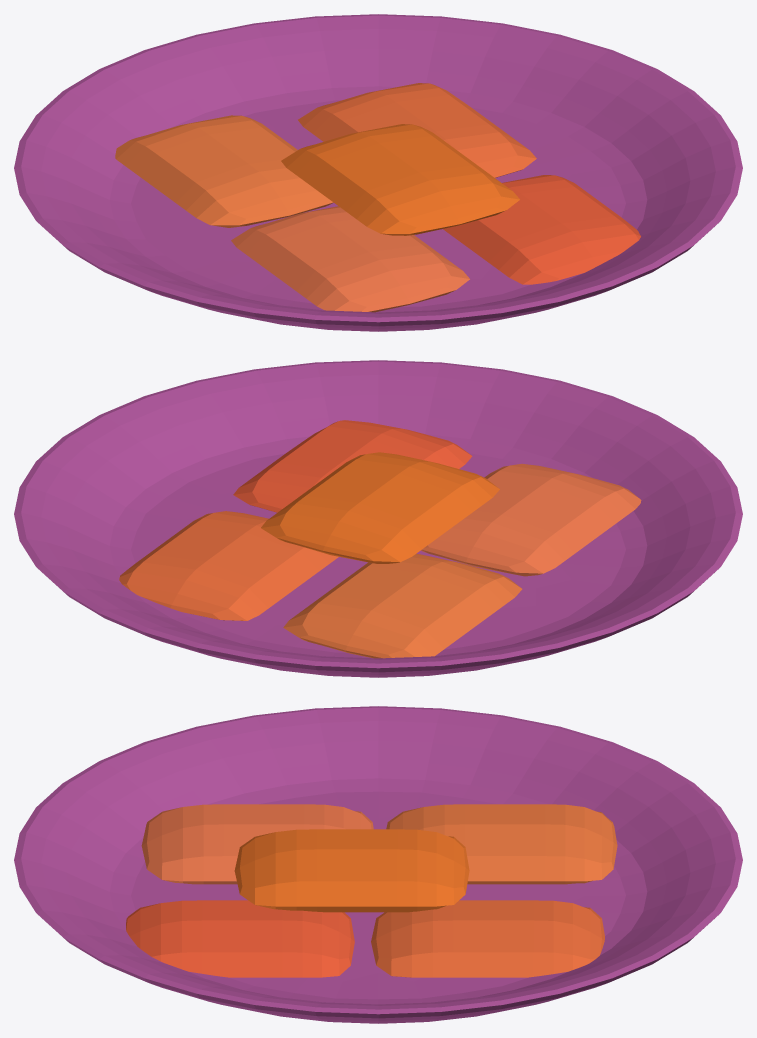
The model's file is kue bantal.fbx.
The picture shows the model from 3 angles, top to bottom: view 1: azimuth 30°, elevation 25°; view 2: azimuth 150°, elevation 25°; view 3: azimuth 270°, elevation 25°; orthographic projection.
Parts seen in each view (by area): view 1: Cylinder, Cube.002, Cube.001, Cube.003, Cube, Cube.004; view 2: Cylinder, Cube.002, Cube.003, Cube.004, Cube.001, Cube; view 3: Cylinder, Cube.002, Cube.004, Cube, Cube.003, Cube.001.
Boxes of the visible parts, bbox=[...] form: Cylinder: bbox=[14, 14, 742, 331]; Cube.002: bbox=[281, 124, 519, 235]; Cube.001: bbox=[231, 206, 469, 312]; Cube.003: bbox=[115, 115, 333, 227]; Cube: bbox=[443, 175, 640, 284]; Cube.004: bbox=[298, 83, 536, 177]; Cylinder: bbox=[14, 360, 742, 677]; Cube.002: bbox=[261, 452, 499, 563]; Cube.003: bbox=[283, 553, 522, 658]; Cube.004: bbox=[119, 511, 338, 620]; Cube.001: bbox=[421, 463, 641, 576]; Cube: bbox=[233, 420, 472, 512]; Cylinder: bbox=[14, 706, 742, 1023]; Cube.002: bbox=[234, 829, 469, 912]; Cube.004: bbox=[371, 900, 604, 977]; Cube: bbox=[126, 900, 354, 977]; Cube.003: bbox=[386, 804, 617, 884]; Cube.001: bbox=[141, 804, 373, 884].
Size of the model in its own units: 231 by 25.3 by 231.
